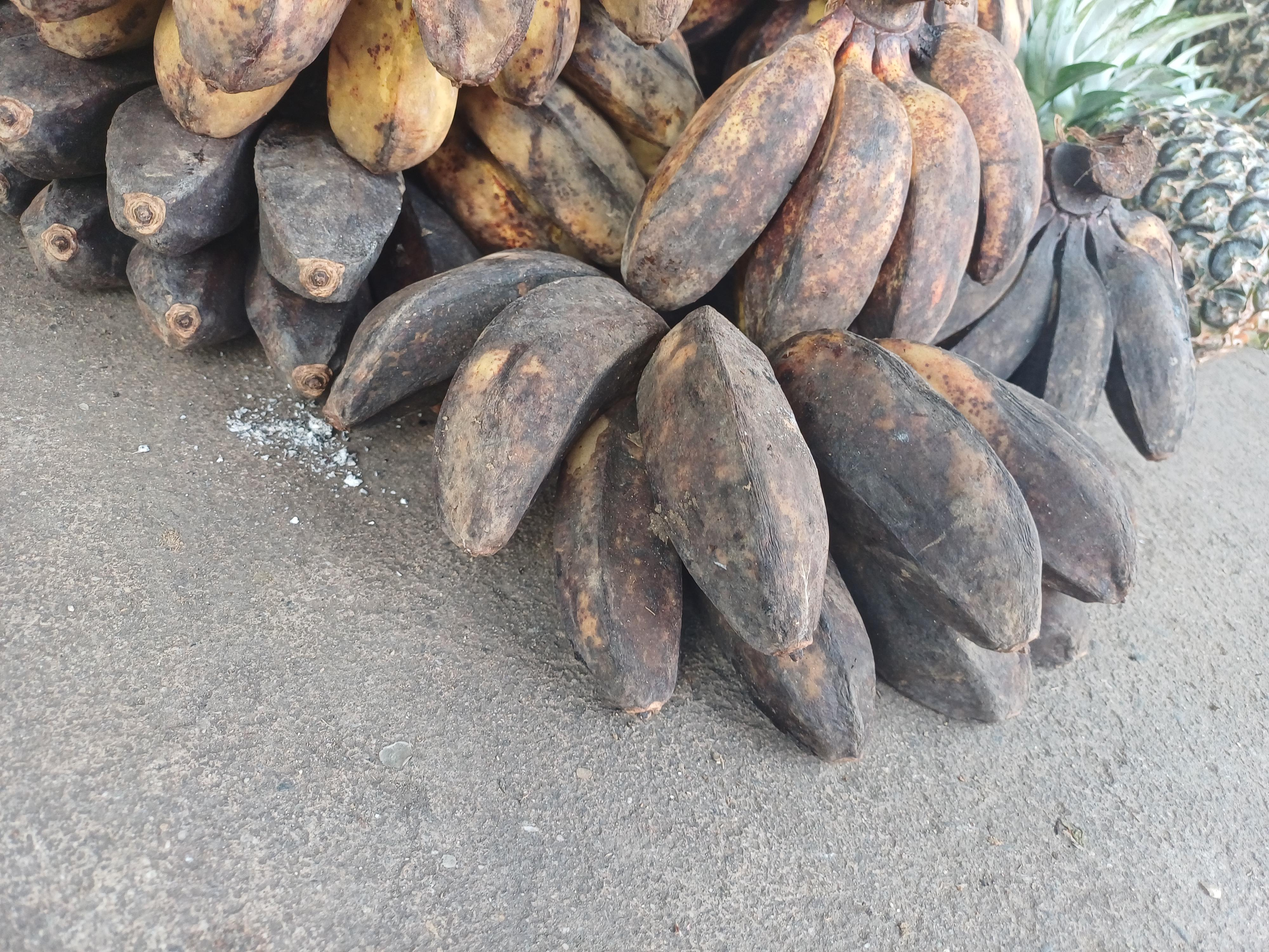overripe: (317, 249, 1136, 768), (0, 0, 483, 404), (622, 24, 1045, 357), (928, 206, 1196, 460)
ripe: (8, 0, 583, 167), (406, 1, 704, 267)
